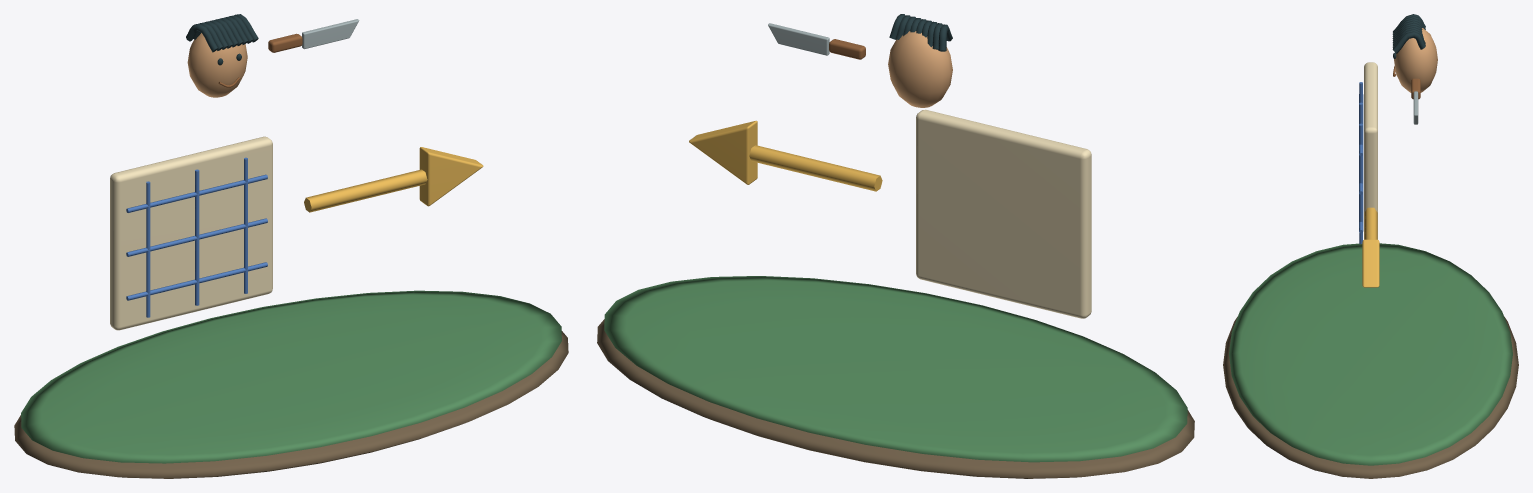
The model's file is complete-third-reason-sent-hair.glb.
3 views of the same model, side by side, from view 1: azimuth 30°, elevation 25°; view 2: azimuth 150°, elevation 25°; view 3: azimuth 270°, elevation 25° (orthographic). The views are drawn at different scales.
Parts seen in each view (by area): view 1: complete-third-reason-sent-hair_surface_01, complete-third-reason-sent-hair_surface_02, complete-third-reason-sent-hair_surface_00, complete-third-reason-sent-hair_surface_04, complete-third-reason-sent-hair_surface_03, complete-third-reason-sent-hair_surface_05, complete-third-reason-sent-hair_surface_06, complete-third-reason-sent-hair_surface_08; view 2: complete-third-reason-sent-hair_surface_01, complete-third-reason-sent-hair_surface_02, complete-third-reason-sent-hair_surface_00, complete-third-reason-sent-hair_surface_04, complete-third-reason-sent-hair_surface_05, complete-third-reason-sent-hair_surface_06, complete-third-reason-sent-hair_surface_08; view 3: complete-third-reason-sent-hair_surface_01, complete-third-reason-sent-hair_surface_00, complete-third-reason-sent-hair_surface_02, complete-third-reason-sent-hair_surface_05, complete-third-reason-sent-hair_surface_04, complete-third-reason-sent-hair_surface_06, complete-third-reason-sent-hair_surface_03.
Boxes of the visible parts, x1,y1,x2,y2 form: complete-third-reason-sent-hair_surface_01: (21,290,561,463); complete-third-reason-sent-hair_surface_02: (110,136,272,330); complete-third-reason-sent-hair_surface_00: (14,331,568,478); complete-third-reason-sent-hair_surface_04: (304,147,483,212); complete-third-reason-sent-hair_surface_03: (126,157,267,317); complete-third-reason-sent-hair_surface_05: (187,33,247,97); complete-third-reason-sent-hair_surface_06: (186,14,258,65); complete-third-reason-sent-hair_surface_08: (302,19,359,49); complete-third-reason-sent-hair_surface_01: (604,276,1187,462); complete-third-reason-sent-hair_surface_02: (916,109,1091,318); complete-third-reason-sent-hair_surface_00: (597,319,1194,478); complete-third-reason-sent-hair_surface_04: (689,120,882,191); complete-third-reason-sent-hair_surface_05: (888,31,952,107); complete-third-reason-sent-hair_surface_06: (889,14,952,51); complete-third-reason-sent-hair_surface_08: (768,23,829,55); complete-third-reason-sent-hair_surface_01: (1229,243,1512,465); complete-third-reason-sent-hair_surface_00: (1223,316,1518,478); complete-third-reason-sent-hair_surface_02: (1364,62,1377,239); complete-third-reason-sent-hair_surface_05: (1394,28,1437,92); complete-third-reason-sent-hair_surface_04: (1362,207,1379,287); complete-third-reason-sent-hair_surface_06: (1392,14,1425,58); complete-third-reason-sent-hair_surface_03: (1359,82,1363,243).
Bounding box in the file's own units: 4.56 × 3.12 × 2.5.
